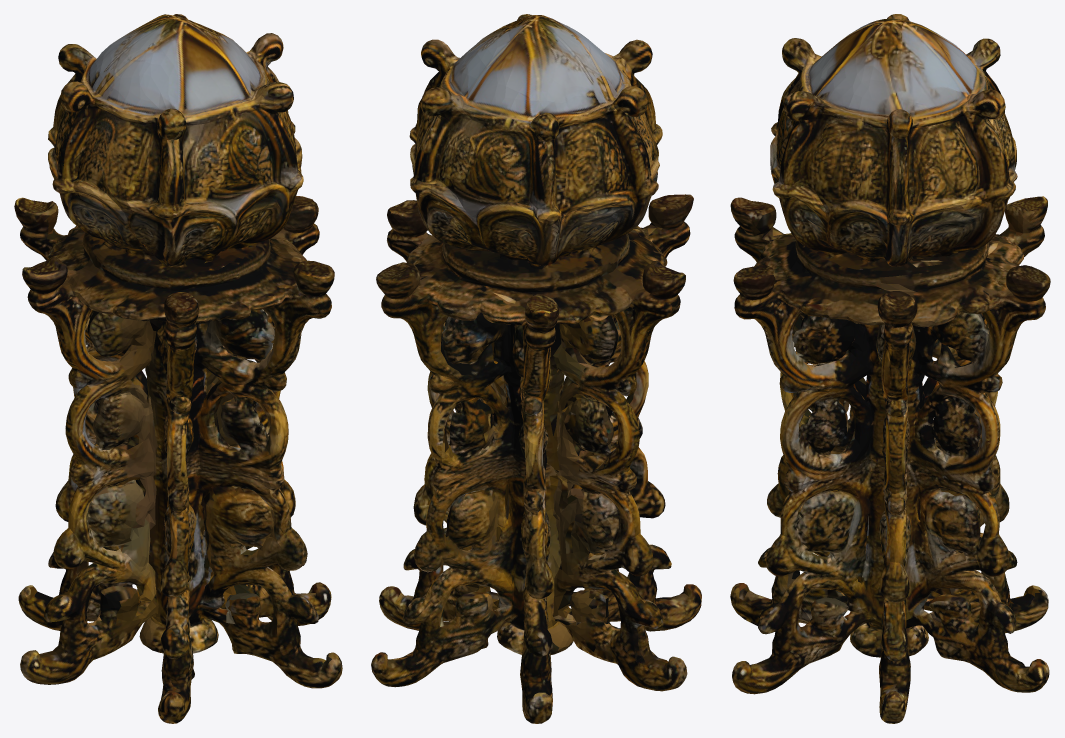
The picture shows the model from 3 angles, left to right: view 1: azimuth 30°, elevation 25°; view 2: azimuth 150°, elevation 25°; view 3: azimuth 270°, elevation 25°; orthographic projection.
Visible parts, largest first — view 1: textured_mesh; view 2: textured_mesh; view 3: textured_mesh.
Part boxes in pixels (left/top/right/bottom): textured_mesh: left=14, top=14, right=342, bottom=723; textured_mesh: left=371, top=14, right=701, bottom=723; textured_mesh: left=730, top=14, right=1050, bottom=723.
Size of the model in its own units: 1 by 1.99 by 0.9065.
1 material, 1 textured.
